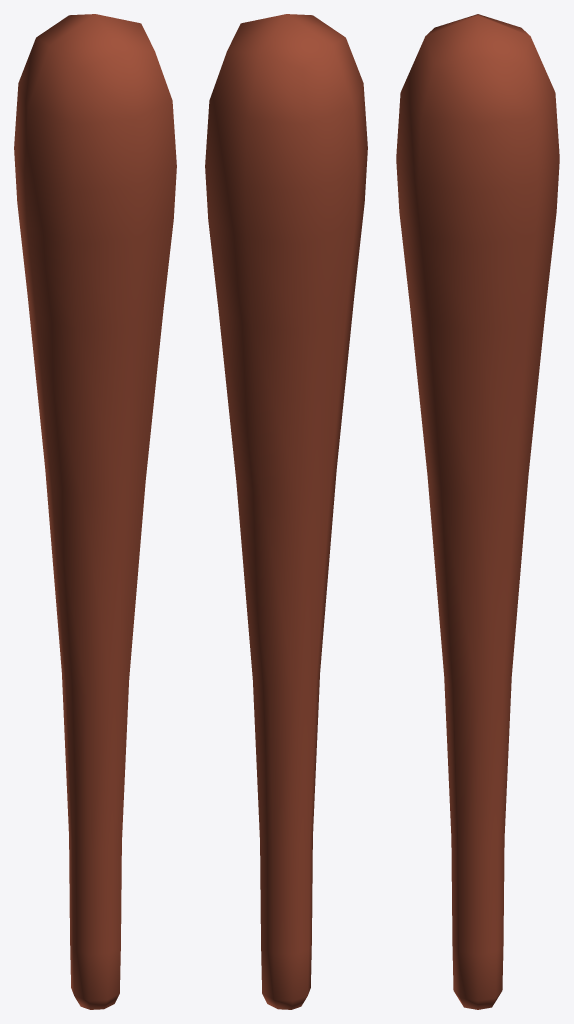
Rendered from Bat.fbx.
3 renders of one model, left to right at view 1: azimuth 30°, elevation 25°; view 2: azimuth 150°, elevation 25°; view 3: azimuth 270°, elevation 25°, orthographic.
Visible parts, largest first — view 1: Cube; view 2: Cube; view 3: Cube.
Part boxes in pixels (<box>): Cube: <box>14,14,176,1009</box>; Cube: <box>205,14,367,1009</box>; Cube: <box>396,14,559,1009</box>.
Bounding box in the file's own units: 93.91 × 627 × 93.91.
